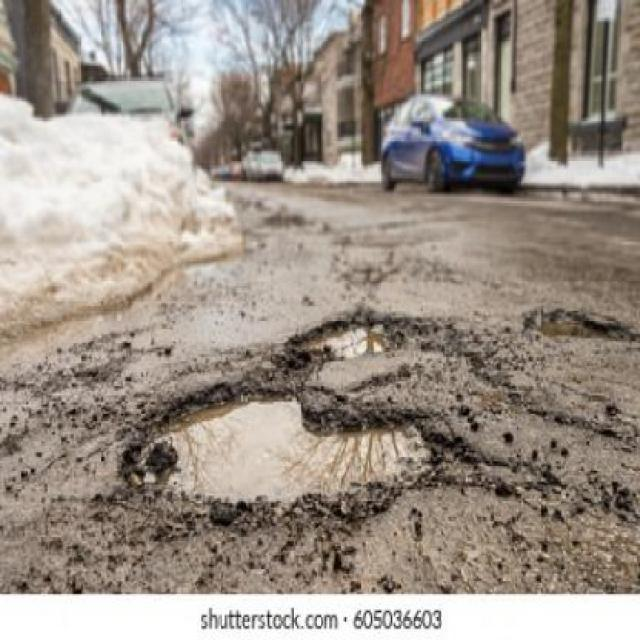Pothole: (118, 312, 456, 518), (517, 305, 638, 349)
